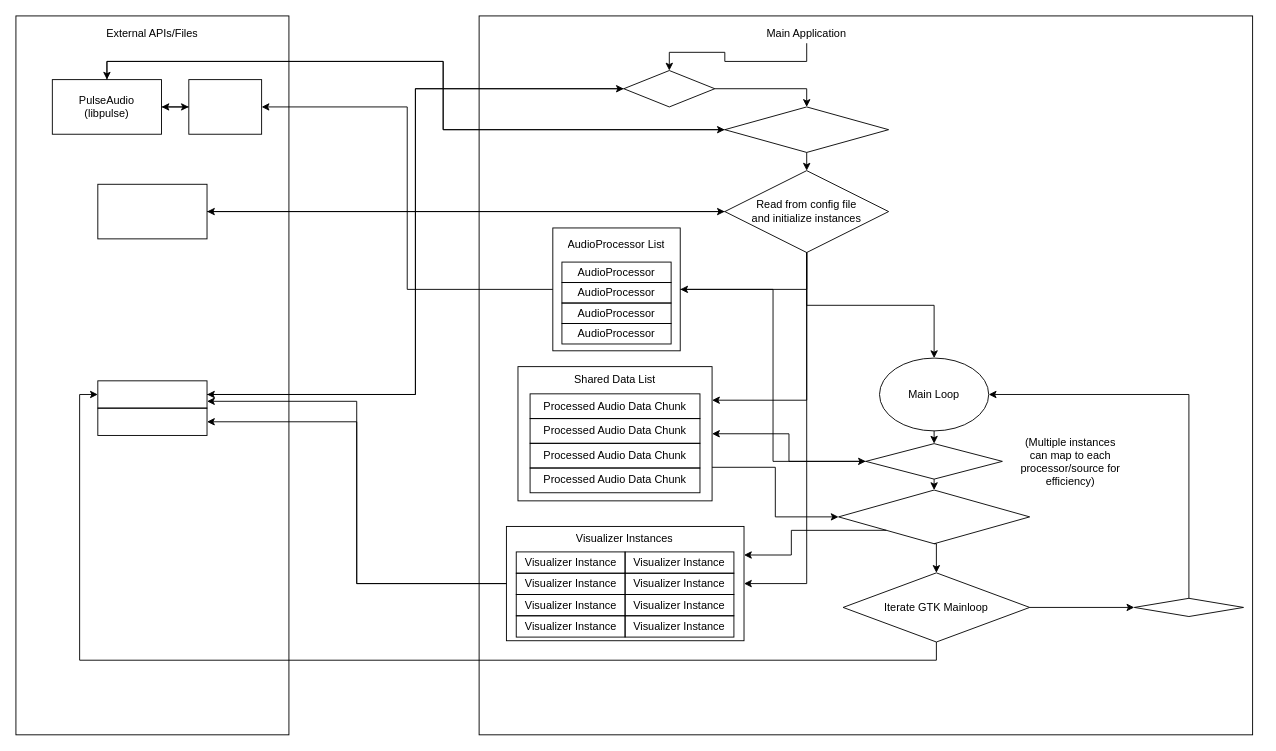
Image size: 1276x751. Some labels were removed from this diagram. Here are the shapes that lost their labels. From the top down, the box of each, then its label:
(188, 79, 262, 134): pa_simple API
(623, 70, 715, 107): gtk::init()
(724, 106, 889, 152): get_devices()
(97, 183, 207, 239): YAML Config file (Could get changed to TOML later)
(97, 380, 207, 408): GTK
(97, 407, 207, 435): Cairo
(865, 443, 1002, 479): Update Data
(838, 489, 1030, 544): Drawing/Window Handling
(1133, 597, 1244, 617): Iterate
